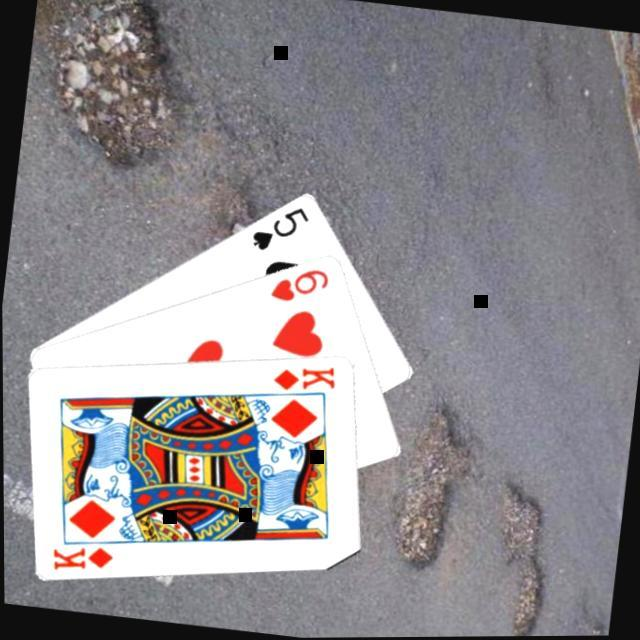5S: (248, 196, 315, 256)
6H: (266, 258, 334, 308)
KD: (270, 355, 342, 397), (48, 534, 118, 576)
